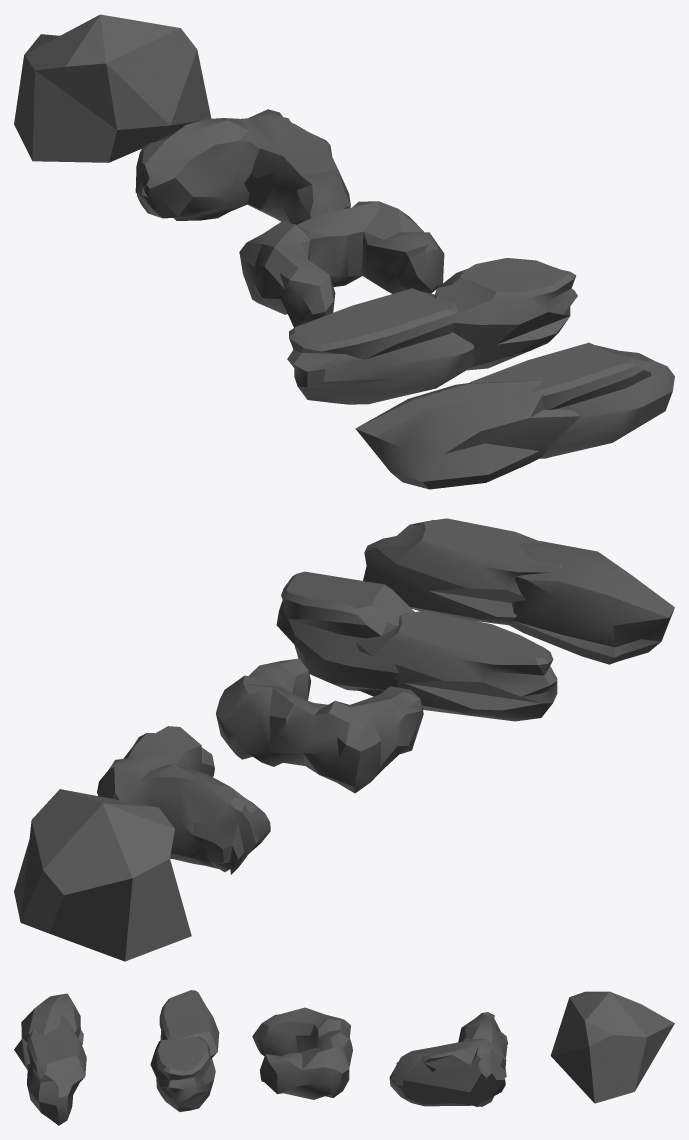
File: Scene Rocks (Ocher).fbx
3 views of the same model, one above another, from view 1: azimuth 30°, elevation 25°; view 2: azimuth 150°, elevation 25°; view 3: azimuth 270°, elevation 25° (orthographic). The views are drawn at different scales.
Parts seen in each view (by area): view 1: LongRock2, LongRock1, BigAssRock, ReshRock, HetRock; view 2: LongRock2, LongRock1, BigAssRock, HetRock, ReshRock; view 3: BigAssRock, ReshRock, HetRock, LongRock2, LongRock1.
Part boxes in pixels (box(x1,y1,x2,y2)): LongRock2: box(355, 342, 674, 489); LongRock1: box(287, 258, 577, 404); BigAssRock: box(14, 14, 211, 162); ReshRock: box(135, 109, 350, 224); HetRock: box(239, 201, 444, 327); LongRock2: box(363, 518, 674, 664); LongRock1: box(276, 571, 557, 721); BigAssRock: box(14, 789, 191, 961); HetRock: box(216, 658, 423, 793); ReshRock: box(97, 726, 270, 874); BigAssRock: box(550, 991, 674, 1103); ReshRock: box(389, 1012, 507, 1106); HetRock: box(252, 1007, 352, 1099); LongRock2: box(14, 993, 86, 1125); LongRock1: box(150, 990, 219, 1112).
Bounding box in the file's own units: 1546 × 663 × 4283.
2 materials, 1 textured.
